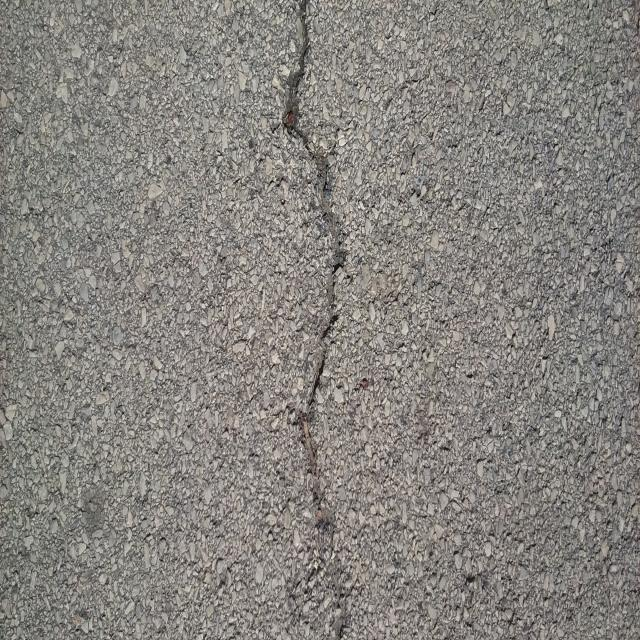Longitudial: (281, 0, 354, 640)
